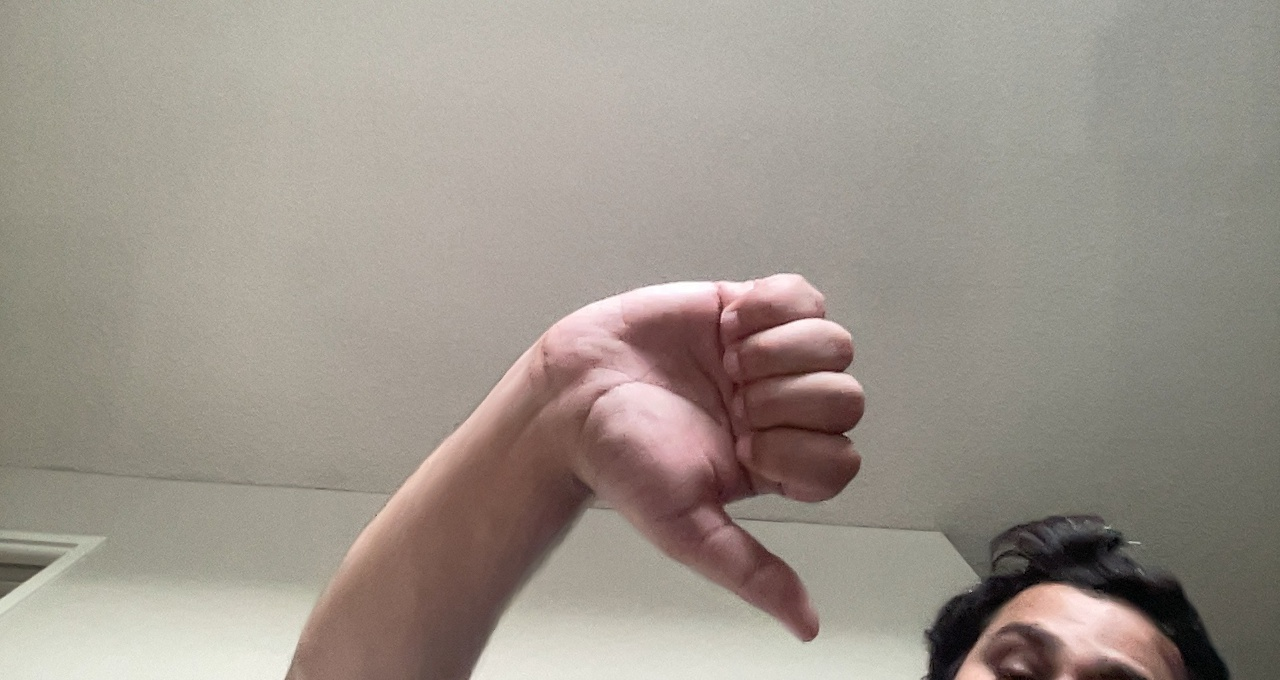thumbsdown: (516, 245, 875, 644)
